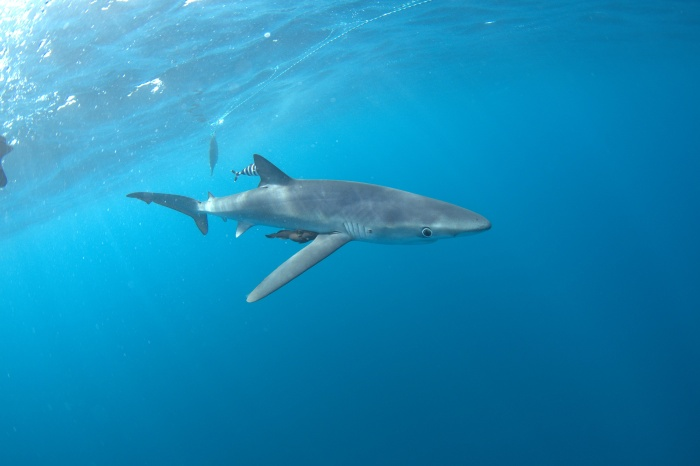Azul: (69, 137, 523, 330)
